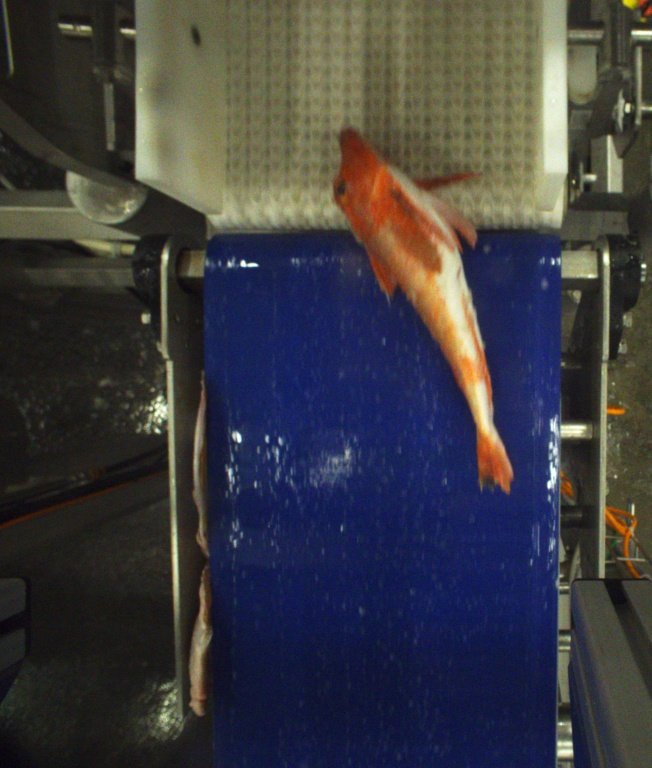GUU: (332, 125, 515, 501)
